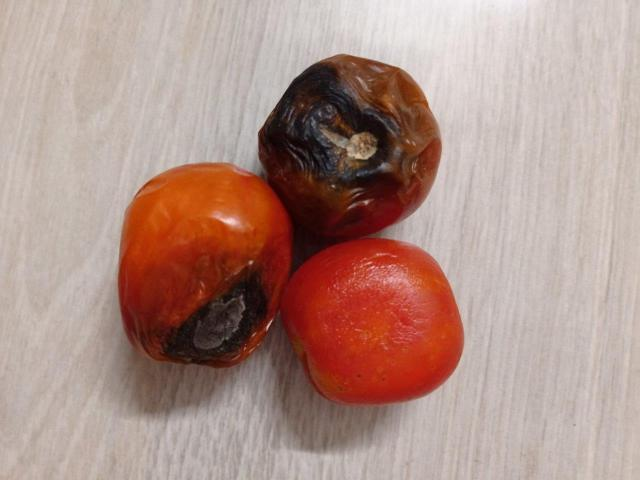defect: (252, 49, 445, 241), (118, 159, 290, 371)
